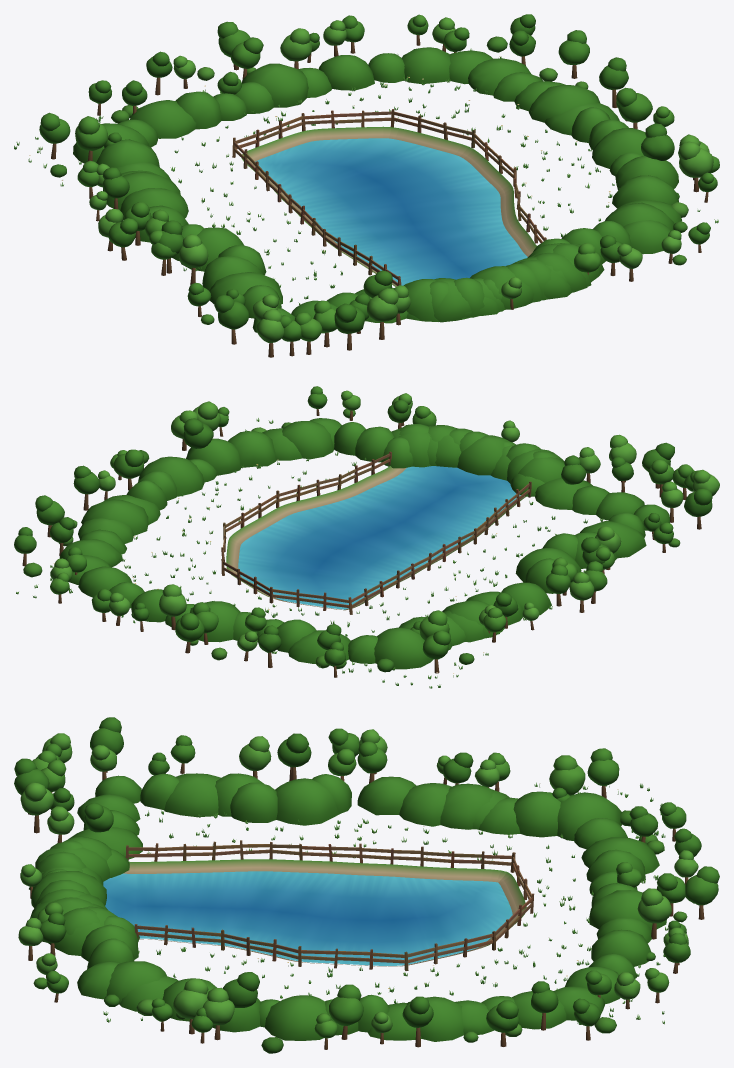
The model's file is grass-decor.glb.
The picture shows the model from 3 angles, top to bottom: view 1: azimuth 30°, elevation 25°; view 2: azimuth 150°, elevation 25°; view 3: azimuth 270°, elevation 25°; orthographic projection. The views are drawn at different scales.
Size of the model in its own units: 102 by 9.94 by 105.
